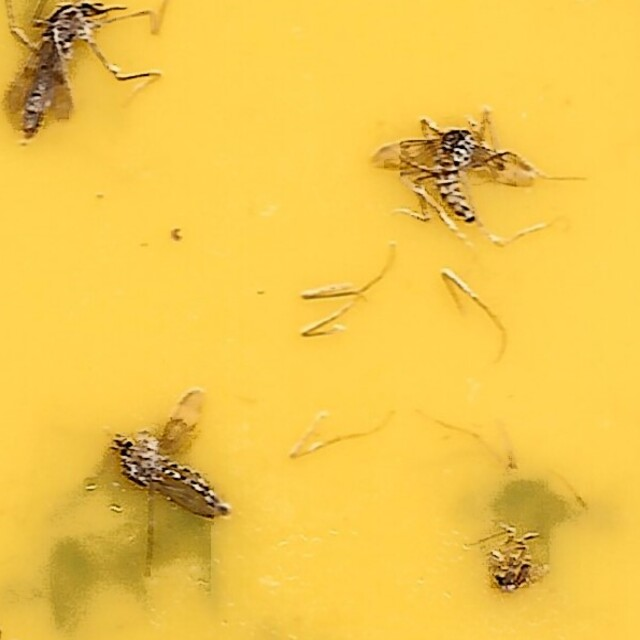Nematocera: (373, 110, 532, 231), (108, 388, 238, 530)
